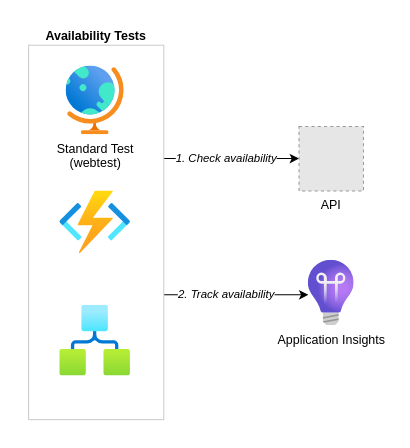
Image size: 410x448. Some labels were removed from this diagram. Grey dashed boxes stand in for pictures. Each missing label, with the centre of its shape:
"Azure Function" goes at [94,222].
"Logic App Workflow" goes at [94,340].
